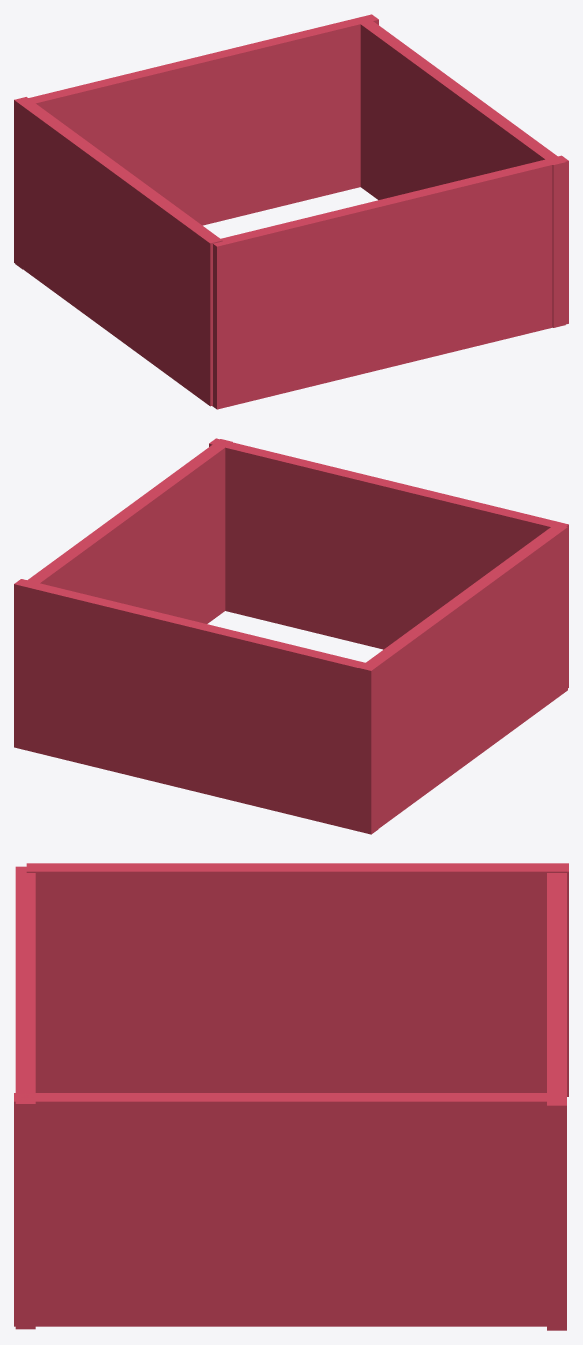
Rendered from model-no-floor.dae.
3 renders of one model, top to bottom at view 1: azimuth 30°, elevation 25°; view 2: azimuth 150°, elevation 25°; view 3: azimuth 270°, elevation 25°, orthographic. The views are drawn at different scales.
Parts seen in each view (by area): view 1: Cube.004, Cube.002, Cube.001, Cube.003; view 2: Cube.002, Cube.004, Cube.001, Cube.003; view 3: Cube.003, Cube.001, Cube.004, Cube.002.
Boxes of the visible parts, left/top/right/bottom form: Cube.004: left=212, top=155, right=568, bottom=409; Cube.002: left=15, top=14, right=378, bottom=269; Cube.001: left=14, top=97, right=222, bottom=406; Cube.003: left=354, top=16, right=565, bottom=327; Cube.002: left=14, top=579, right=378, bottom=834; Cube.004: left=209, top=438, right=568, bottom=687; Cube.001: left=358, top=524, right=567, bottom=833; Cube.003: left=21, top=439, right=232, bottom=623; Cube.003: left=14, top=1093, right=566, bottom=1326; Cube.001: left=26, top=863, right=568, bottom=1096; Cube.004: left=15, top=866, right=35, bottom=1329; Cube.002: left=547, top=873, right=566, bottom=1330.
Bounding box in the file's own units: 4.43 × 4.31 × 1.94.
